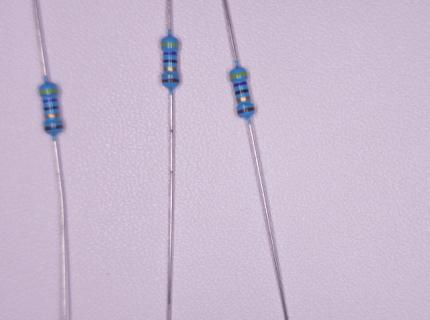Black band: (235, 89, 249, 96), (44, 106, 59, 111), (164, 60, 177, 63)
Brown band: (237, 107, 255, 114), (44, 125, 64, 131), (162, 79, 180, 83)
Gold band: (237, 96, 250, 104), (45, 113, 60, 118), (164, 67, 178, 72)
Violet band: (234, 81, 247, 88), (43, 98, 58, 103), (163, 51, 177, 56)
Yellow band: (39, 88, 59, 95), (230, 72, 247, 79), (161, 43, 178, 47)
